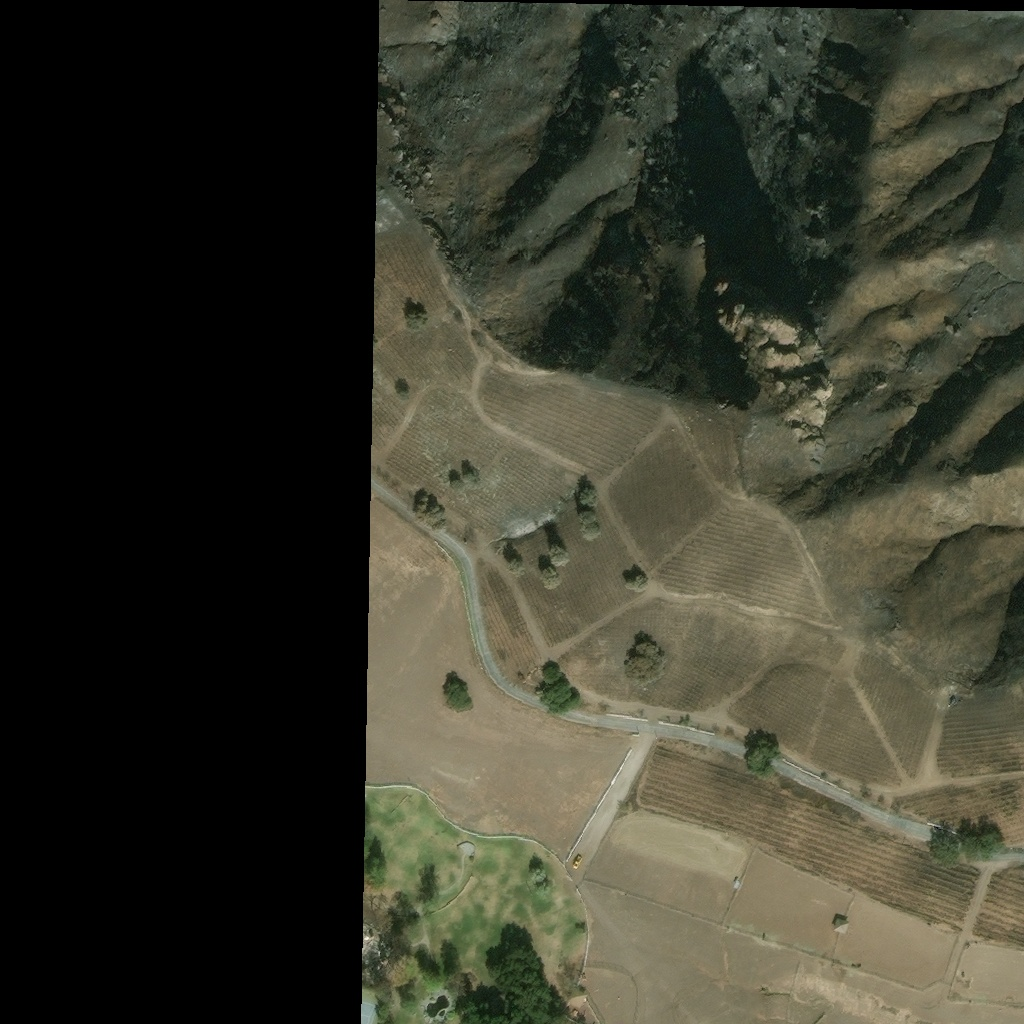0 no-damage: (568, 989, 586, 1007), (832, 917, 848, 933), (731, 877, 739, 888)
3 destroyed: (363, 935, 386, 969), (948, 706, 960, 715)
4 un-classified: (362, 1001, 375, 1023)
